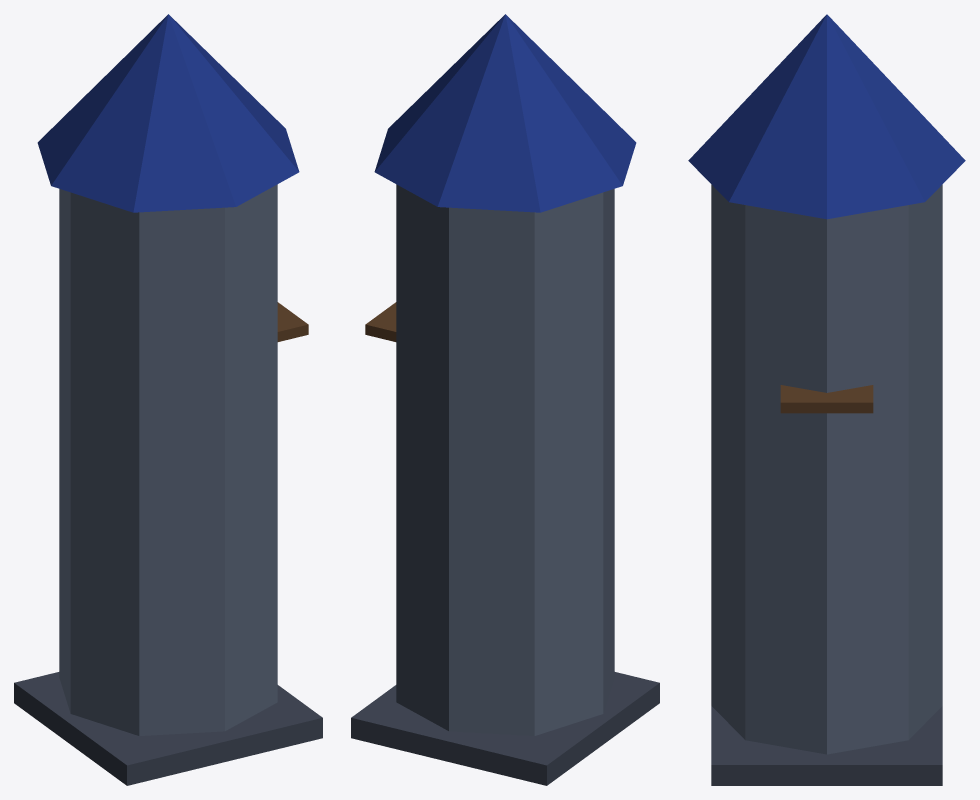
File: vanguard_range_tower.glb
The picture shows the model from 3 angles, left to right: view 1: azimuth 30°, elevation 25°; view 2: azimuth 150°, elevation 25°; view 3: azimuth 270°, elevation 25°; orthographic projection. The views are drawn at different scales.
Visible parts, largest first — view 1: vanguard_range_tower; view 2: vanguard_range_tower; view 3: vanguard_range_tower.
Part boxes in pixels (x1,y1,x2,y2): vanguard_range_tower: [14, 14, 322, 785]; vanguard_range_tower: [351, 14, 659, 785]; vanguard_range_tower: [688, 14, 965, 785].
Size of the model in its own units: 24 by 69 by 24.
